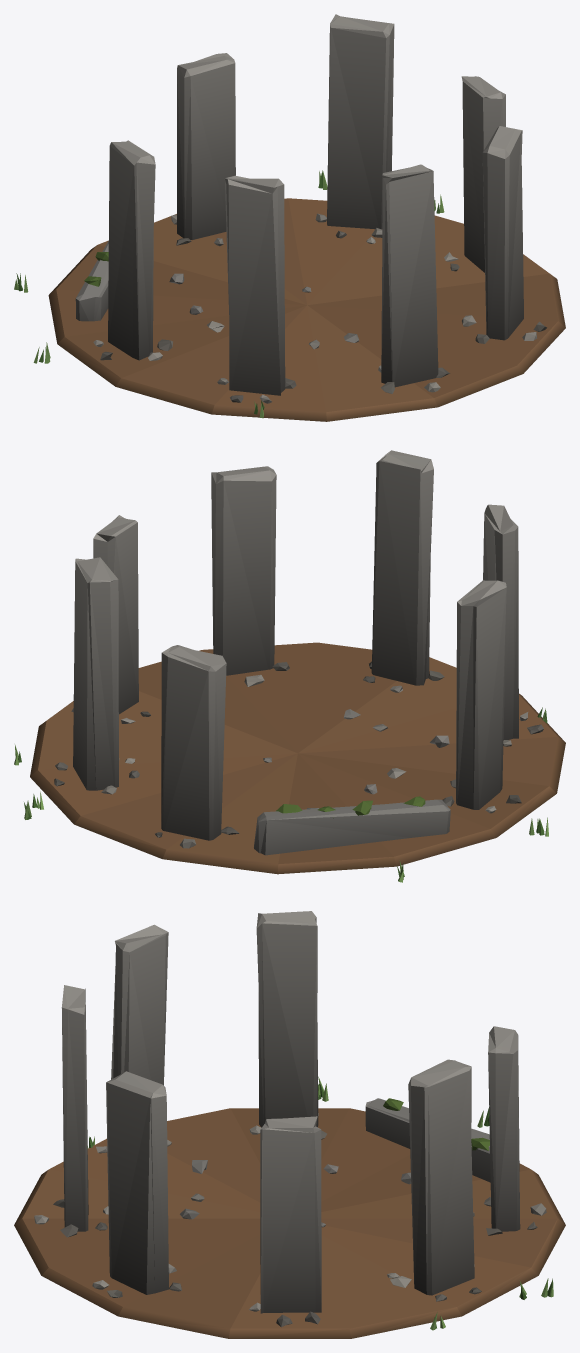
The model's file is standing-stone-ring.glb.
3 renders of one model, top to bottom at view 1: azimuth 30°, elevation 25°; view 2: azimuth 150°, elevation 25°; view 3: azimuth 270°, elevation 25°, orthographic. The views are drawn at different scales.
Visible parts, largest first — view 1: standing_stone_ring; view 2: standing_stone_ring; view 3: standing_stone_ring.
Part boxes in pixels (x1,y1,x2,y2): standing_stone_ring: (14,14,565,421); standing_stone_ring: (14,450,565,882); standing_stone_ring: (14,911,565,1338).
Bounding box in the file's own units: 7.08 × 3.09 × 6.7.
